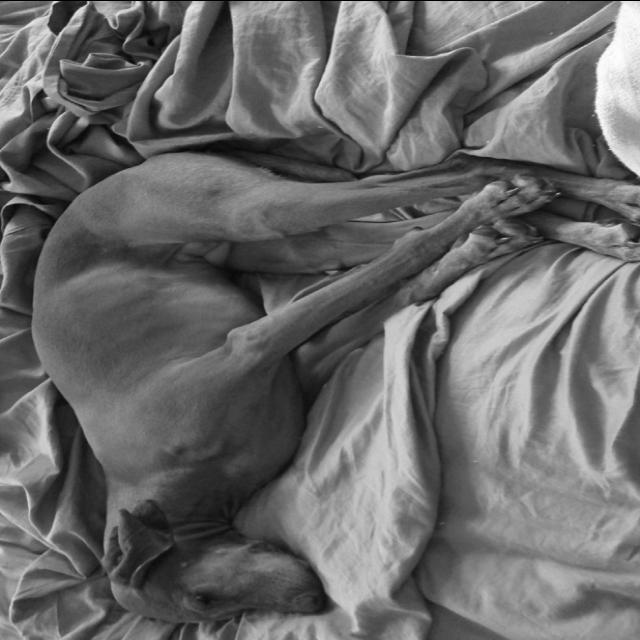laying down: (24, 119, 640, 630)
